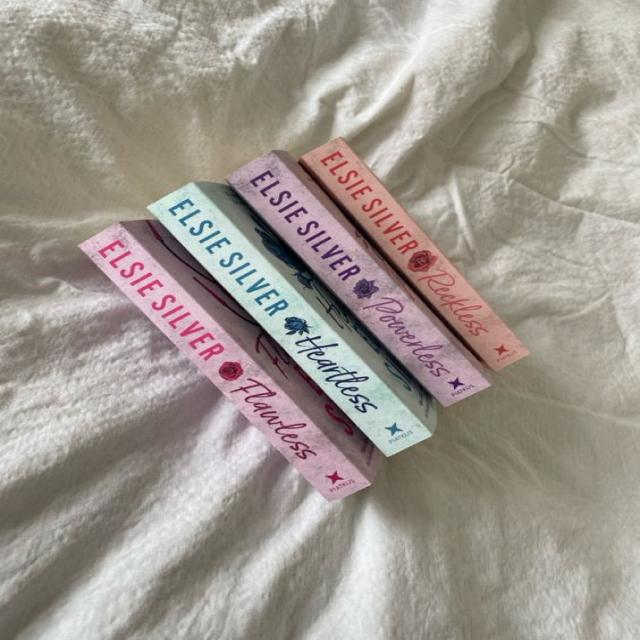book: (80, 226, 369, 499), (148, 182, 432, 457), (229, 151, 488, 406), (298, 140, 528, 369)
